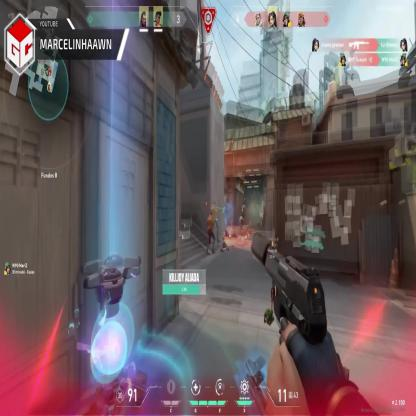enemy: (206, 210, 216, 253)
enemy_head: (209, 212, 212, 221)
